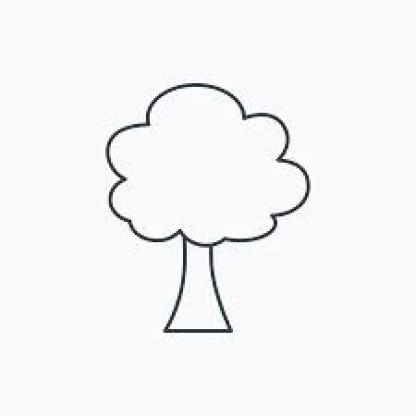crown_cloud: (109, 84, 310, 245)
trunk_straight: (171, 251, 226, 316)
